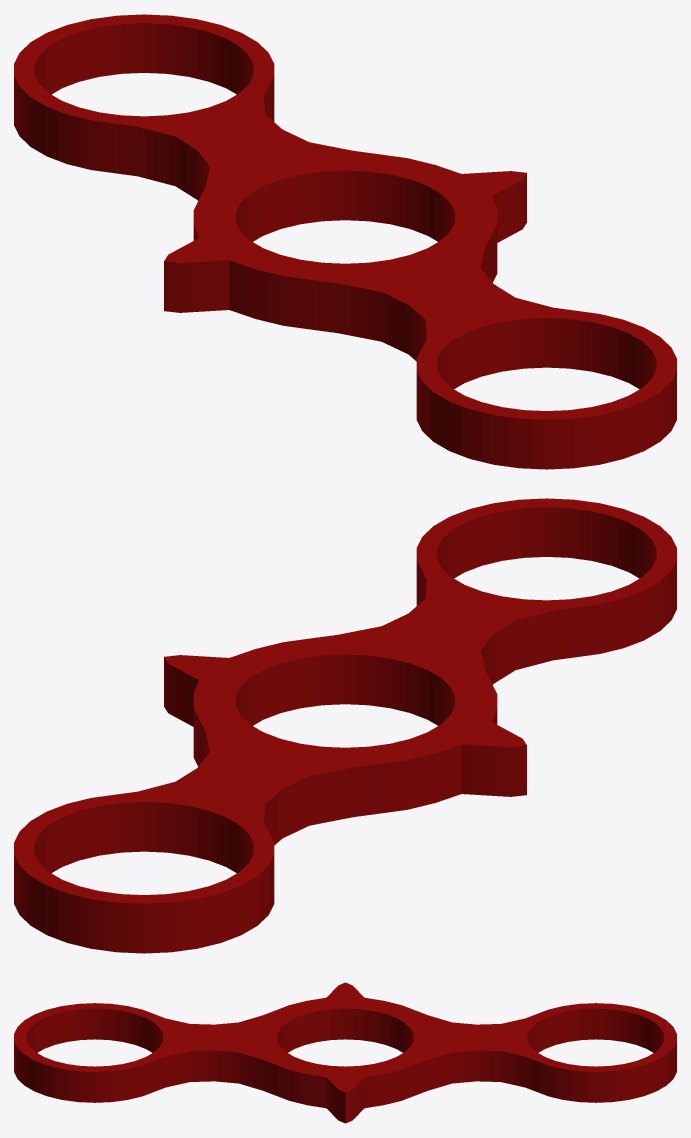
The model's file is spinner_2.FBX.
3 views of the same model, one above another, from view 1: azimuth 30°, elevation 25°; view 2: azimuth 150°, elevation 25°; view 3: azimuth 270°, elevation 25° (orthographic). The views are drawn at different scales.
Parts seen in each view (by area): view 1: spinner_2; view 2: spinner_2; view 3: spinner_2.
Part boxes in pixels (left/top/right/bottom): spinner_2: left=14, top=14, right=676, bottom=469; spinner_2: left=14, top=498, right=676, bottom=953; spinner_2: left=14, top=982, right=676, bottom=1123.
Size of the model in its own units: 0.0446 by 0.00583 by 0.1133.
